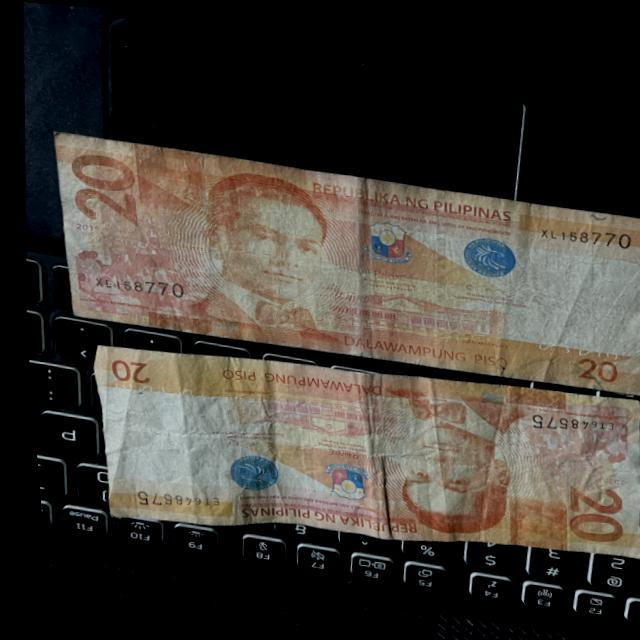concealed_value: (118, 139, 194, 208), (488, 480, 560, 539)
serial_number: (526, 203, 639, 248), (513, 392, 615, 437), (119, 472, 219, 517), (82, 262, 182, 304)
value: (62, 144, 148, 236), (538, 466, 628, 538)
